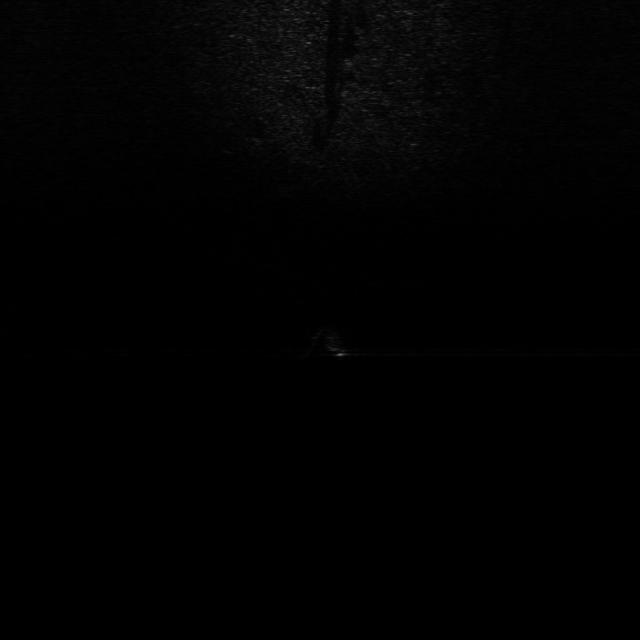human body: (314, 321, 354, 369)
